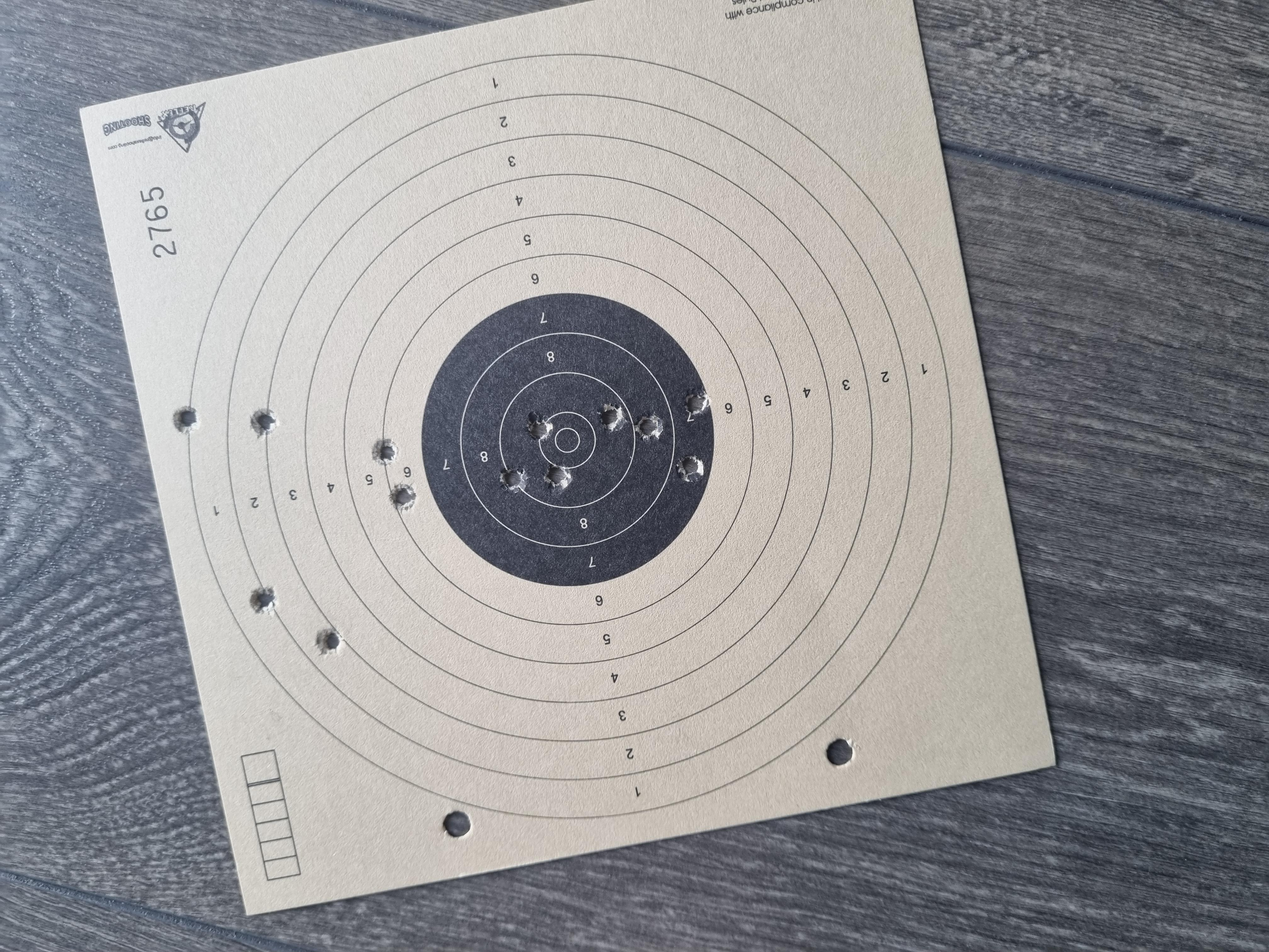hole: (687, 128, 732, 152), (680, 394, 722, 415), (612, 407, 652, 429), (693, 448, 733, 470), (684, 187, 725, 208), (680, 476, 717, 498), (587, 292, 625, 312), (627, 507, 663, 528), (612, 374, 646, 396), (648, 279, 685, 299), (450, 187, 486, 207), (396, 237, 432, 256), (714, 513, 747, 532)
